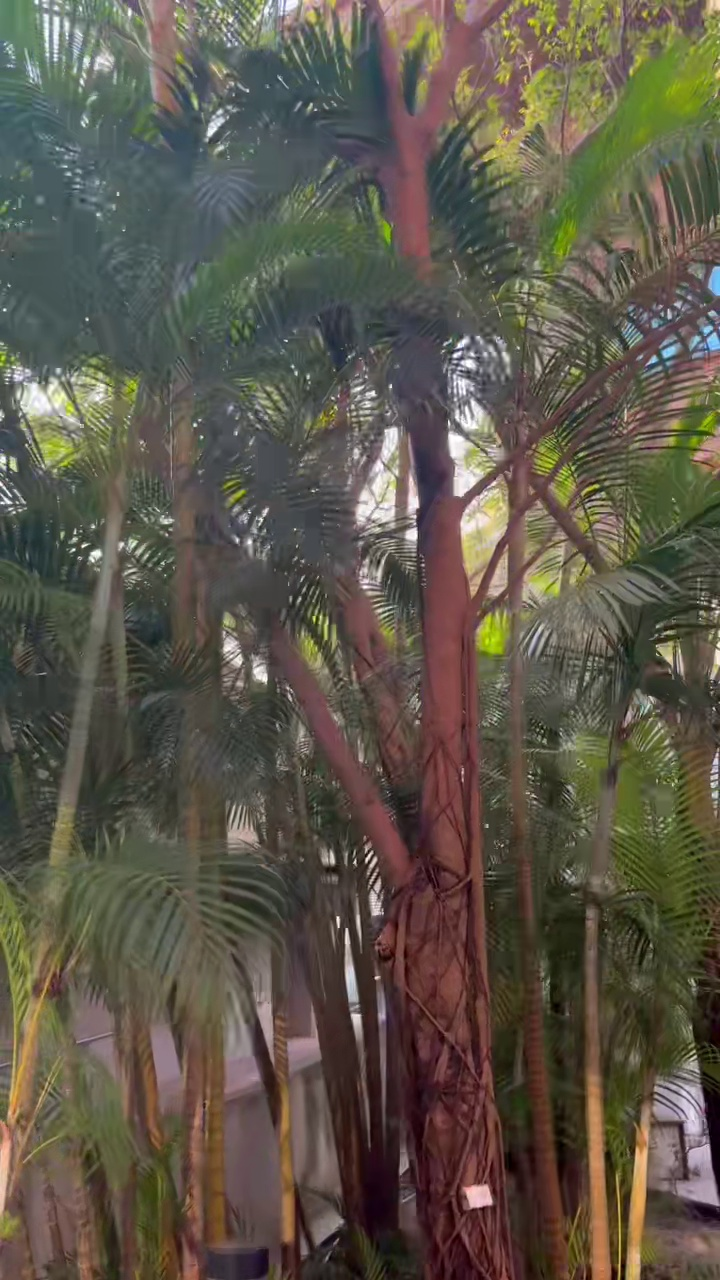Ficus benjamina: (272, 0, 512, 1279)
